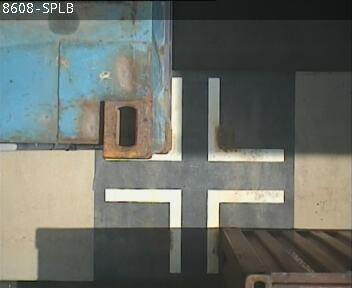groundmarker_1: (104, 188, 283, 273), (149, 76, 284, 161)
